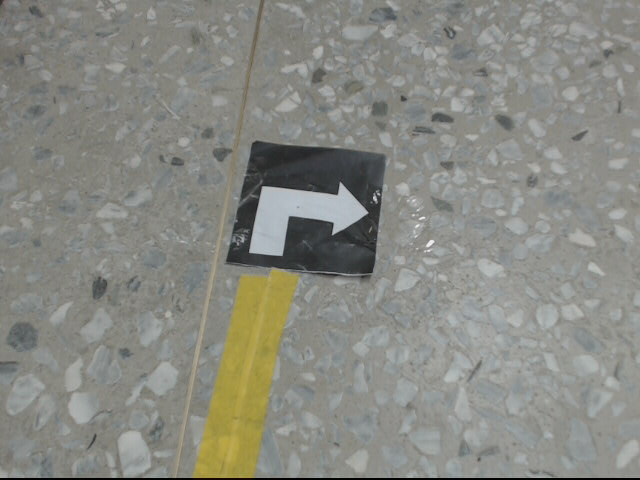right: (225, 140, 389, 278)
